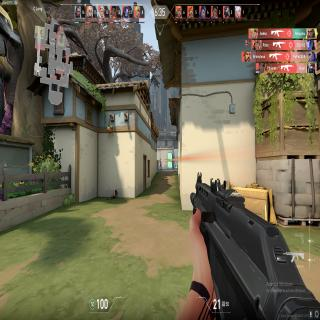ENEMY-BODY: (160, 158, 162, 172)
ENEMY-HEAD: (160, 158, 162, 161)
